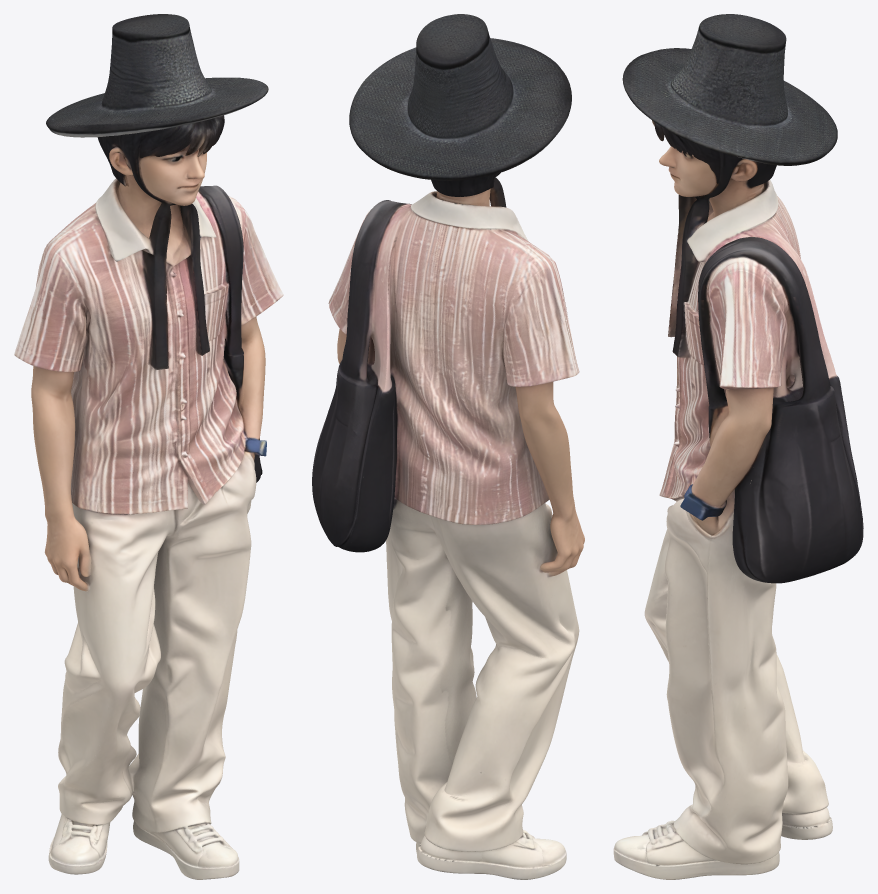
Rendered from npc1.glb.
The picture shows the model from 3 angles, left to right: view 1: azimuth 30°, elevation 25°; view 2: azimuth 150°, elevation 25°; view 3: azimuth 270°, elevation 25°; orthographic projection.
Parts seen in each view (by area): view 1: model; view 2: model; view 3: model.
Boxes of the visible parts, x1=… form: model: x1=14, y1=14, x2=283, y2=879; model: x1=312, y1=14, x2=584, y2=879; model: x1=613, y1=14, x2=863, y2=879.
Bounding box in the file's own units: 0.6076 × 1.89 × 0.5129.
Materials: 1 (1 with a texture image).
